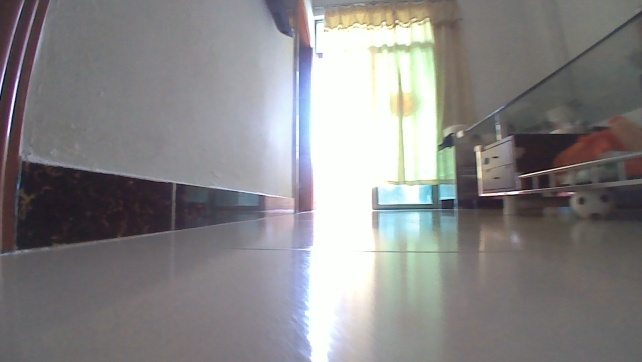tea_table1: (449, 6, 641, 216)
